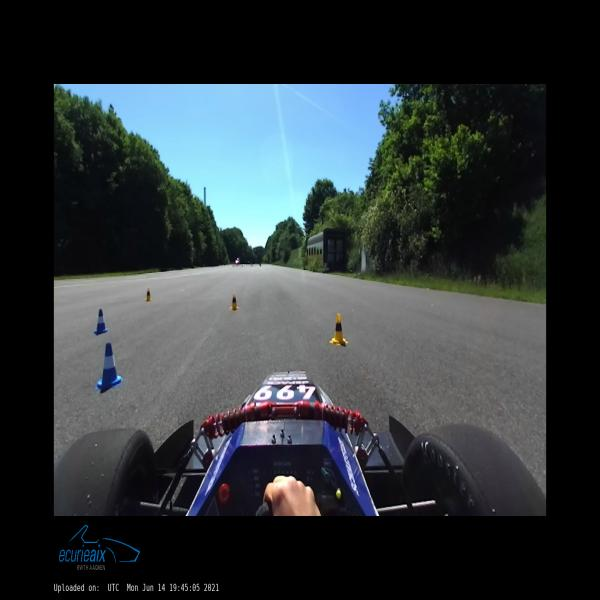blue_cone: (95, 344, 123, 390), (94, 309, 108, 335)
yellow_cone: (330, 314, 348, 346), (230, 294, 238, 310), (145, 289, 152, 301)
